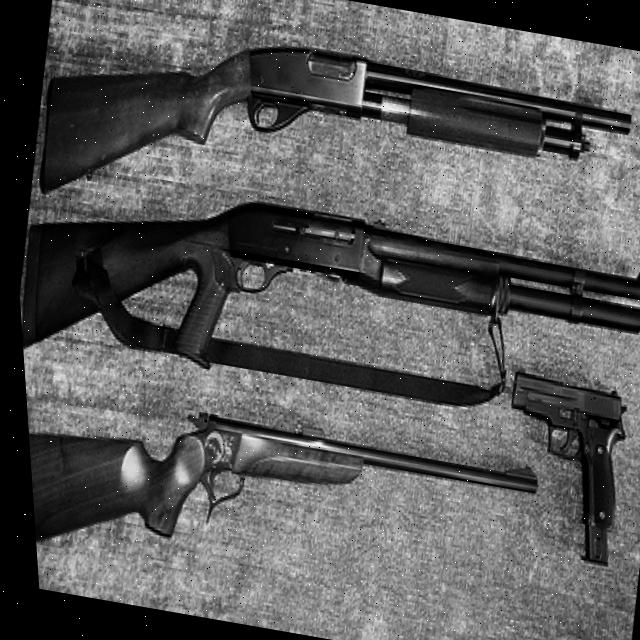firearm: (9, 166, 640, 458), (20, 0, 640, 292), (19, 372, 542, 640)
pistol: (475, 367, 635, 571)
